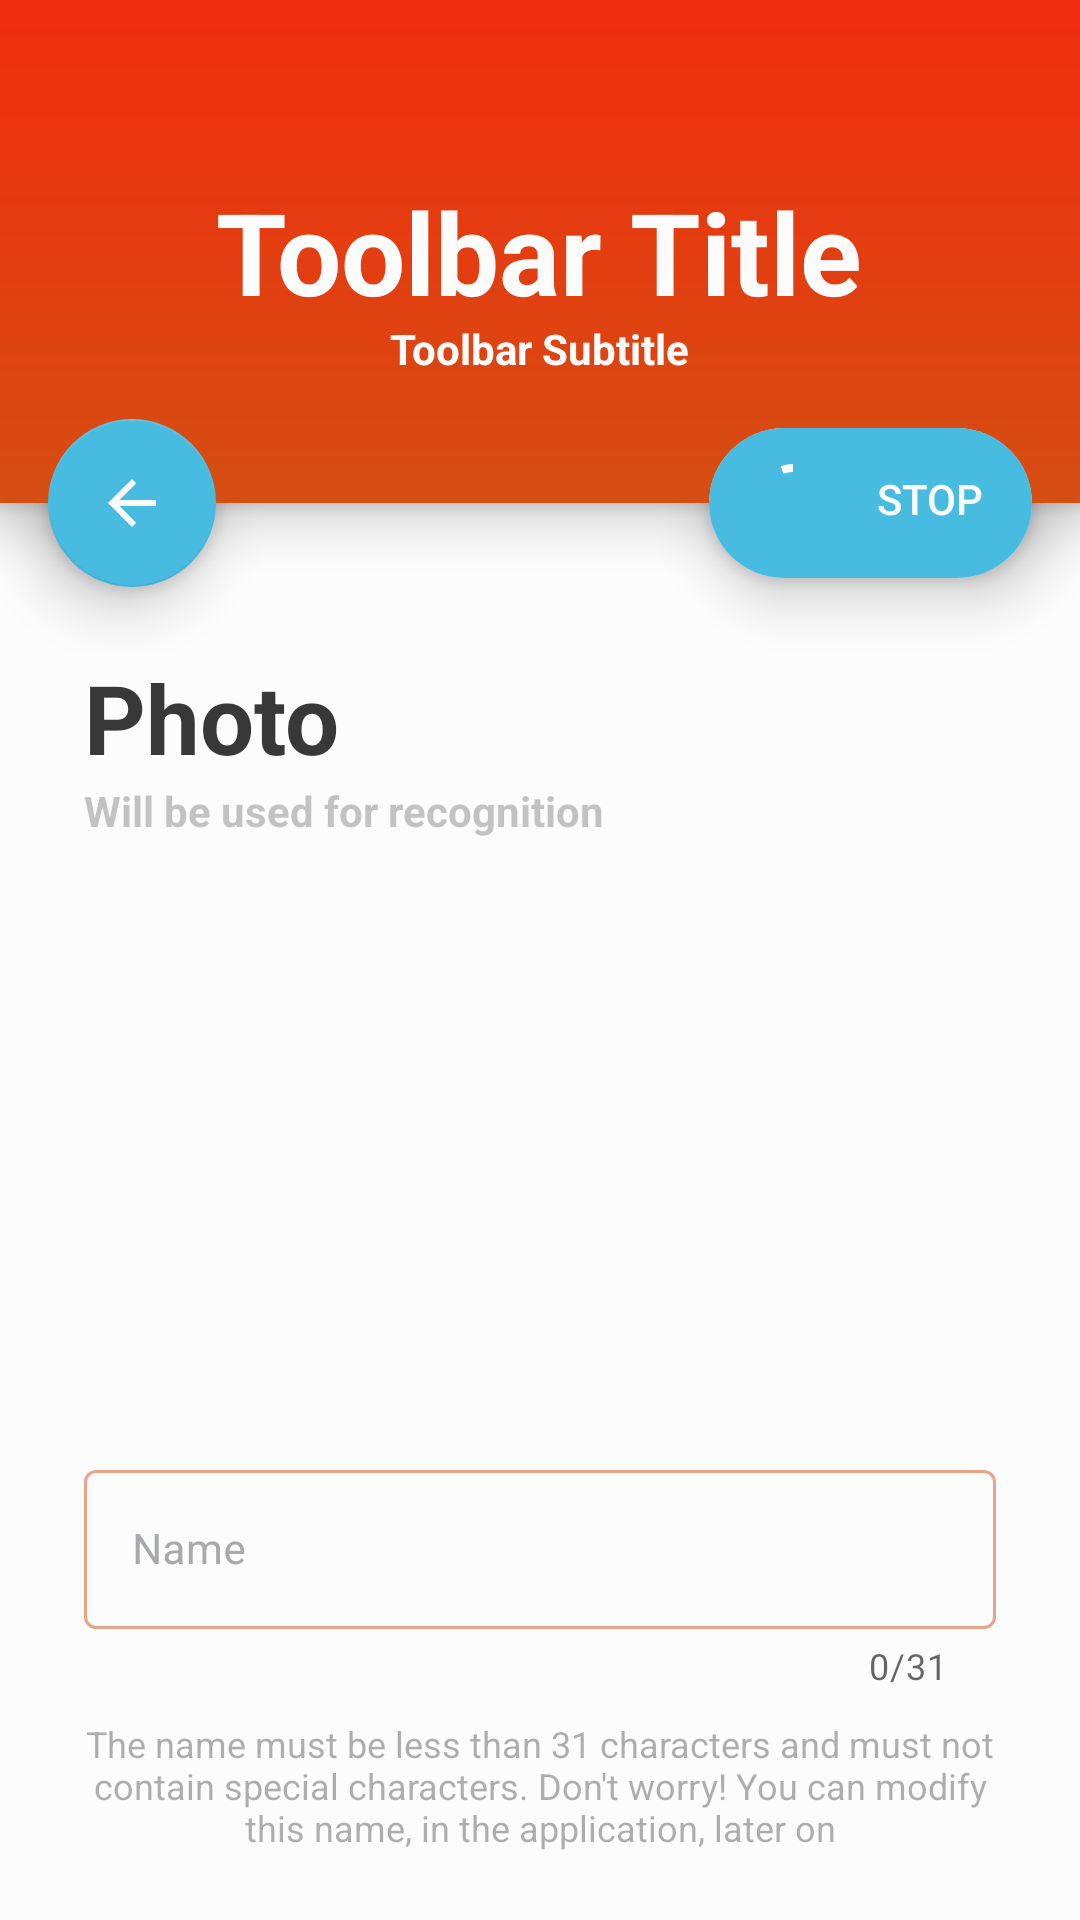

Where to tap for icons on this 1080×1920 app screen, as (x=x, y=y):
arrow back: (x=132, y=503)
